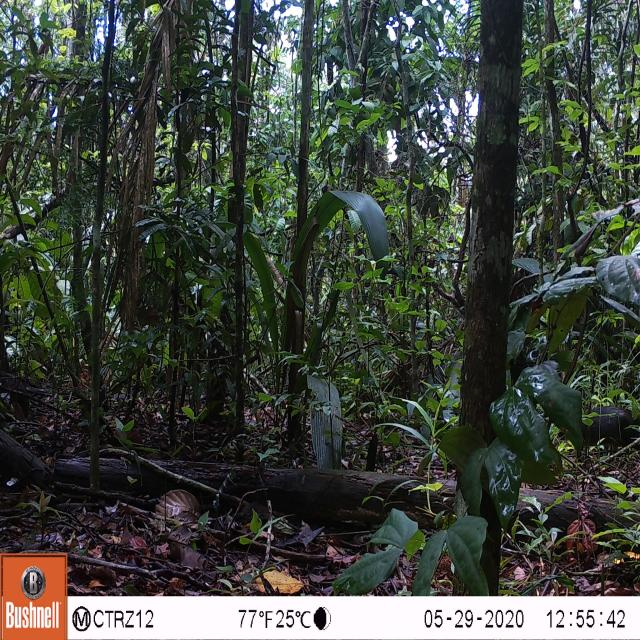Black Agouti: (570, 391, 640, 462)
